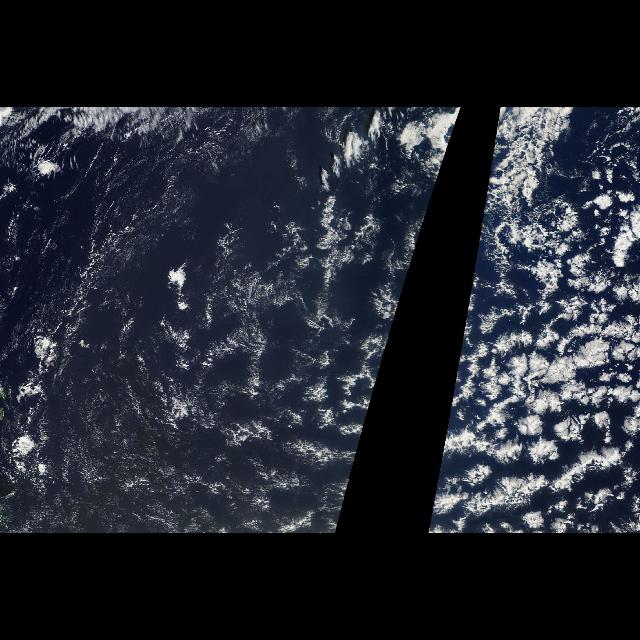Flower: (435, 351, 637, 534)
Sugar: (46, 376, 178, 512)
